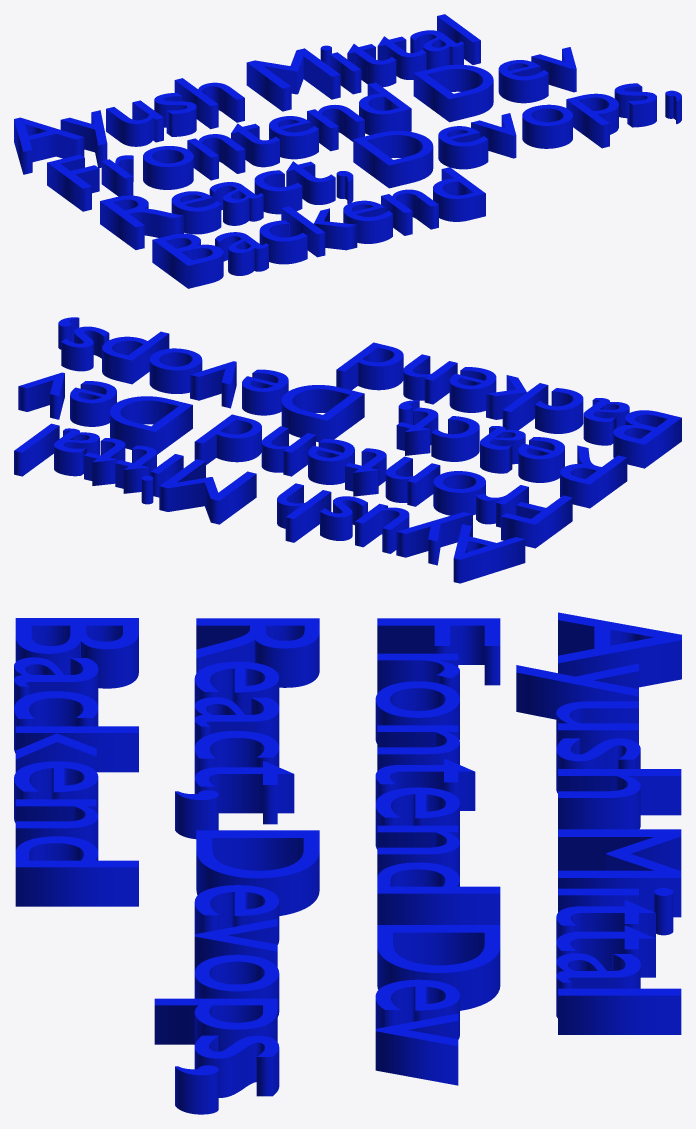
The model's file is ayush3DSkills.gltf.
3 views of the same model, one above another, from view 1: azimuth 30°, elevation 25°; view 2: azimuth 150°, elevation 25°; view 3: azimuth 270°, elevation 25° (orthographic). The views are drawn at different scales.
Visible parts, largest first — view 1: Text; view 2: Text; view 3: Text.
Part boxes in pixels (x1,y1,x2,y2): Text: (14, 14, 681, 288); Text: (14, 317, 681, 583); Text: (14, 612, 681, 1114).
Bounding box in the file's own units: 6.06 × 0.24 × 3.7.
